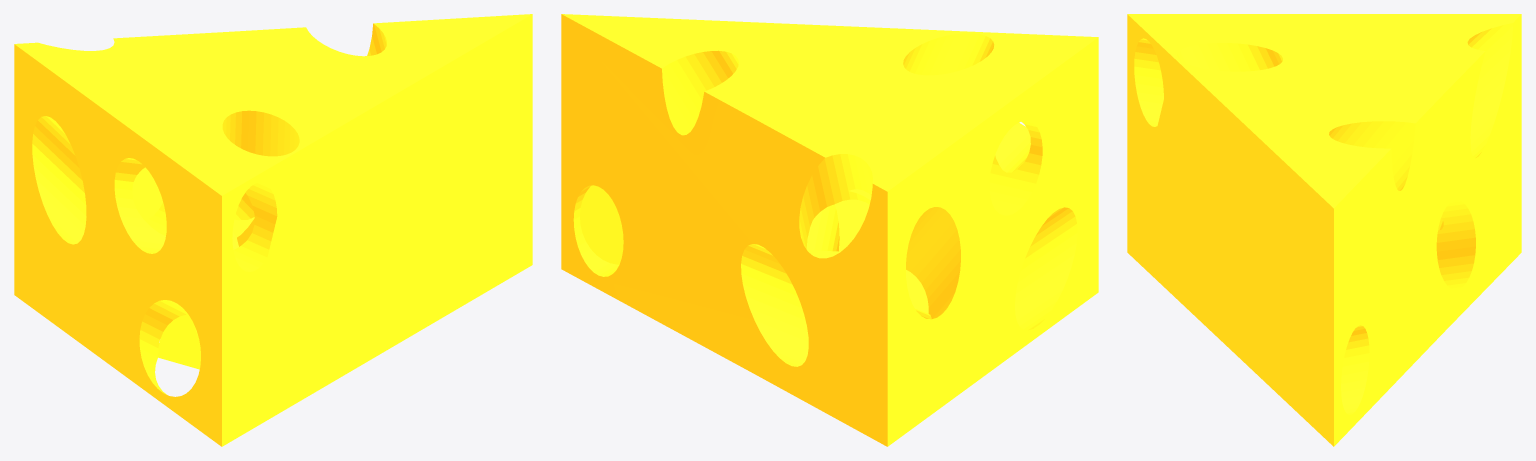
The model's file is Cheese.fbx.
The picture shows the model from 3 angles, left to right: view 1: azimuth 30°, elevation 25°; view 2: azimuth 150°, elevation 25°; view 3: azimuth 270°, elevation 25°; orthographic projection. The views are drawn at different scales.
Visible parts, largest first — view 1: Cheese; view 2: Cheese; view 3: Cheese.
Part boxes in pixels (box(x1,y1,x2,y2)): Cheese: box(14, 14, 532, 446); Cheese: box(561, 14, 1098, 446); Cheese: box(1127, 14, 1521, 446).
Bounding box in the file's own units: 1 × 0.5714 × 0.8571.
